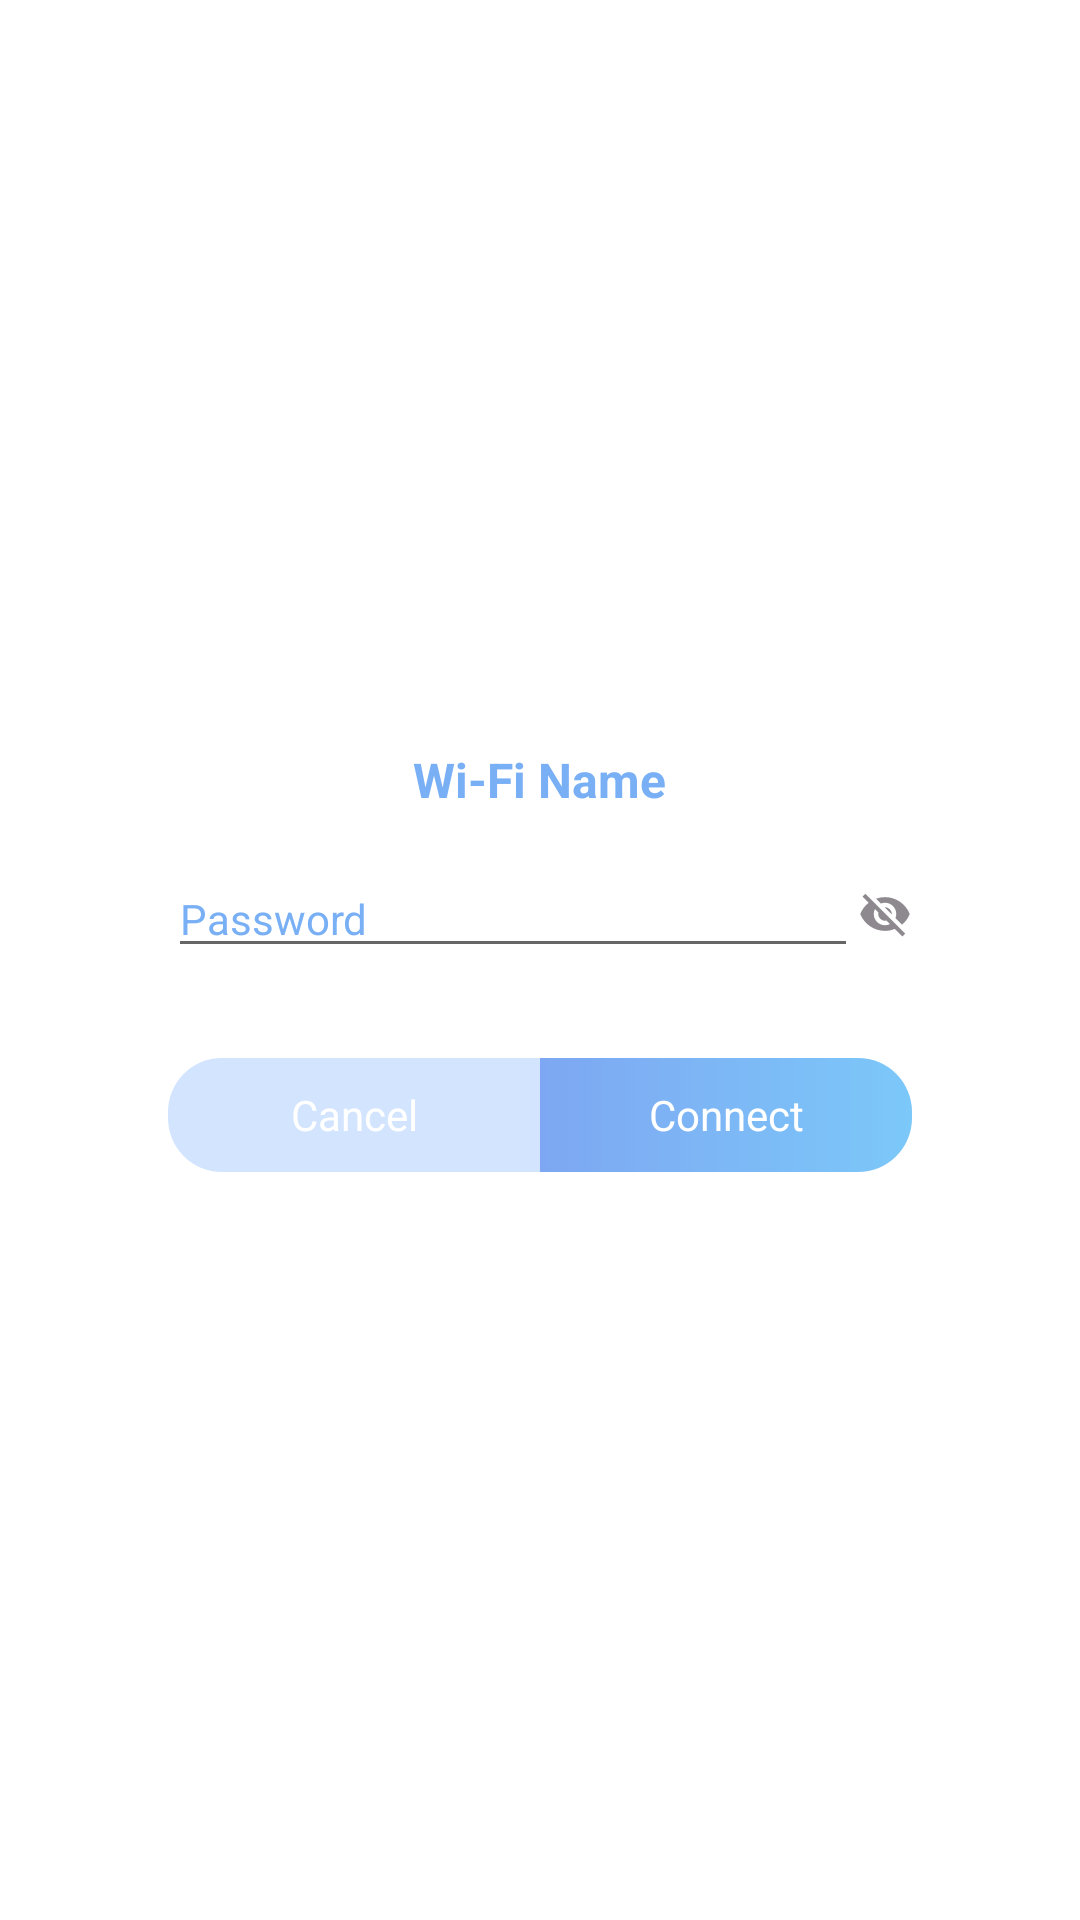

Where icons sit on this 1080px x 1920px app screen, as box=[x1, y1, x2, y2]:
pwd look: box=[860, 894, 910, 937]
